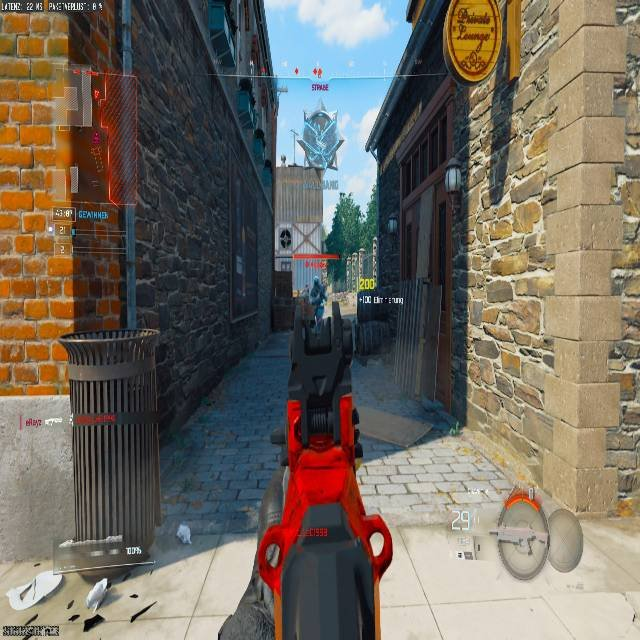head: (308, 271, 323, 294), (313, 276, 321, 286)
player: (305, 274, 328, 347), (309, 276, 325, 324), (280, 229, 291, 248)
